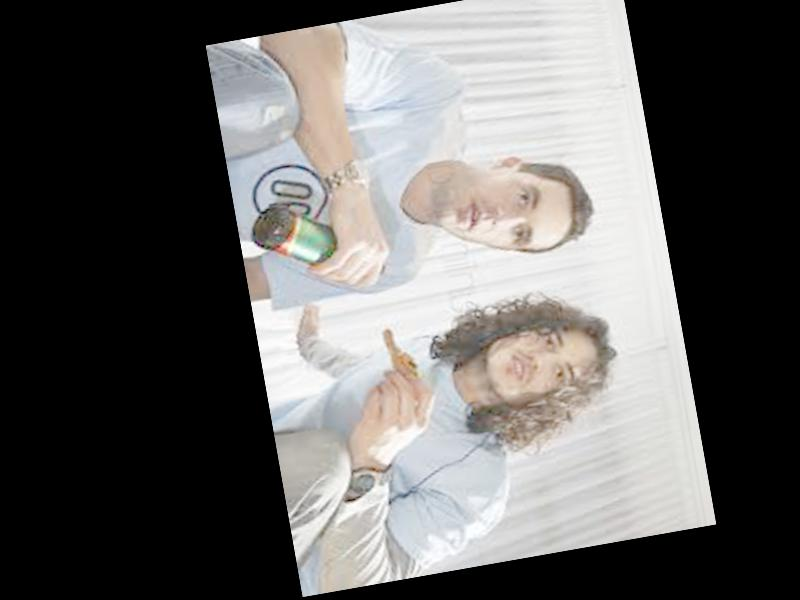Beer: (245, 185, 387, 296)
